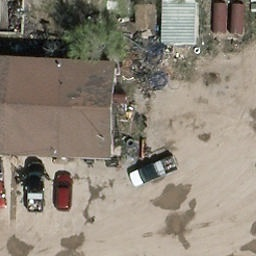car: (46, 172, 72, 211)
pickup: (130, 155, 182, 188), (21, 163, 45, 214)
